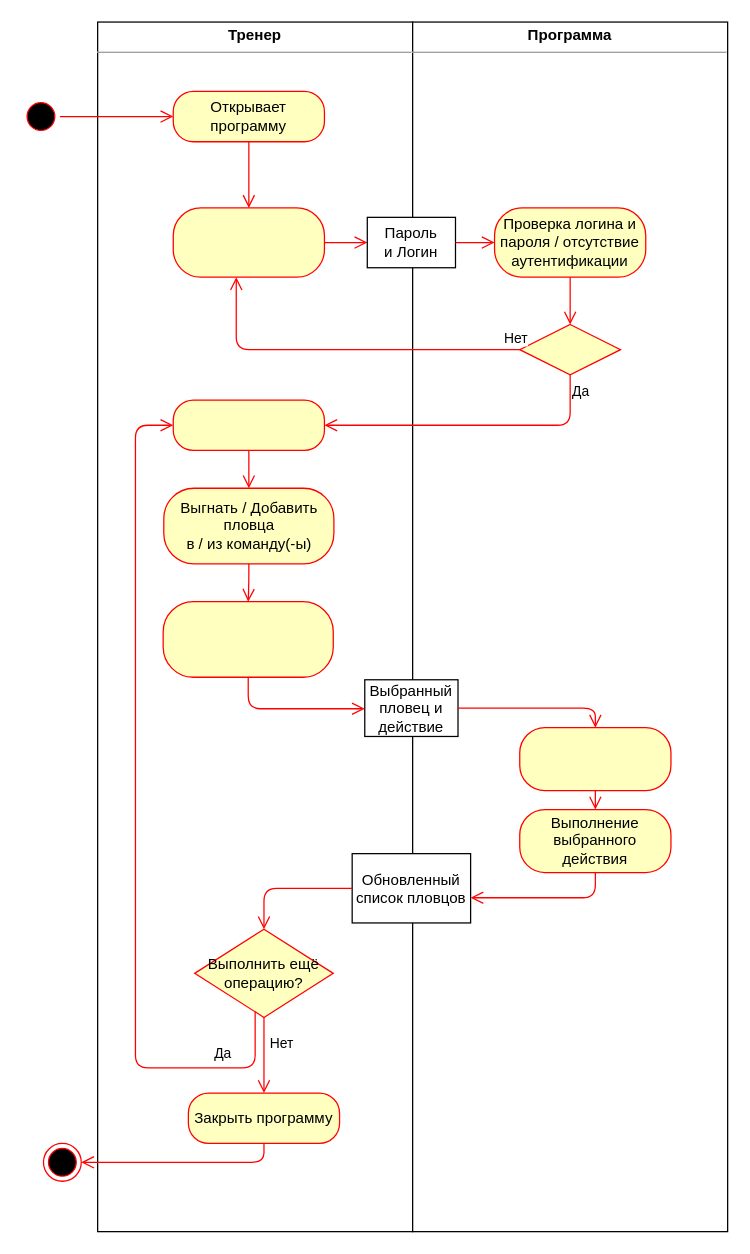
This 750x1254 diagram has some shape labels left out. Each missing label, with the box of its shape:
Вводит логин и пароль / отсутствие аутентификации: (172, 207, 324, 277)
Верно?: (518, 323, 621, 375)
Выбор операции: (172, 399, 324, 450)
Выбор пловца: (162, 600, 333, 677)
Поиск по списку пловцов: (518, 726, 671, 791)
